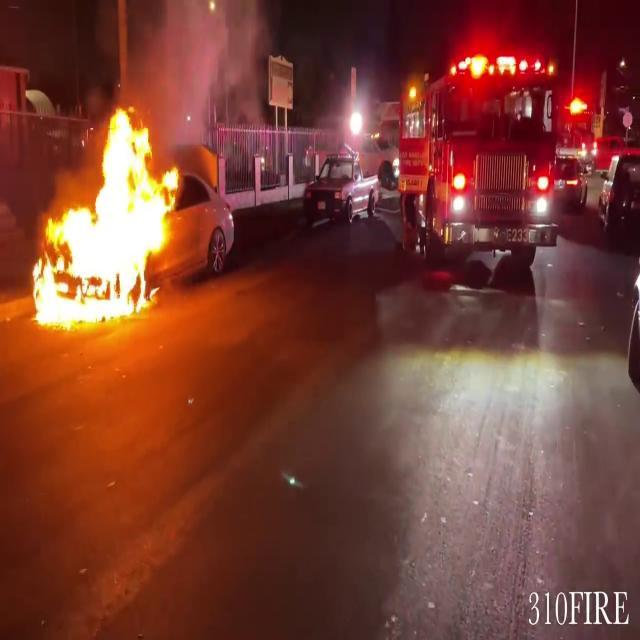Fire: (25, 100, 186, 330)
Smoke: (98, 0, 266, 128)
